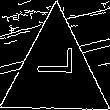L_W: (33, 57, 78, 89)
